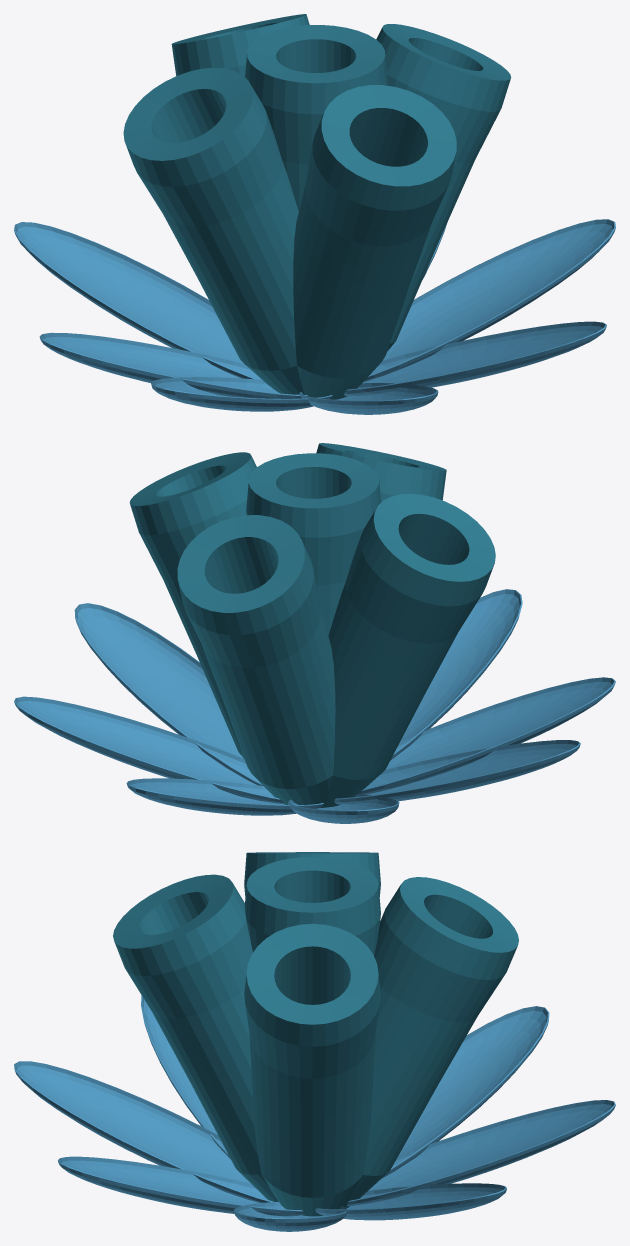
3 views of the same model, one above another, from view 1: azimuth 30°, elevation 25°; view 2: azimuth 150°, elevation 25°; view 3: azimuth 270°, elevation 25° (orthographic). The views are drawn at different scales.
Parts seen in each view (by area): view 1: Sphere.008; view 2: Sphere.008; view 3: Sphere.008.
Boxes of the visible parts, x1,y1,x2,y2 form: Sphere.008: [14, 14, 615, 414]; Sphere.008: [14, 443, 615, 823]; Sphere.008: [14, 852, 615, 1231].
Bounding box in the file's own units: 1.18 × 0.6941 × 1.17.
